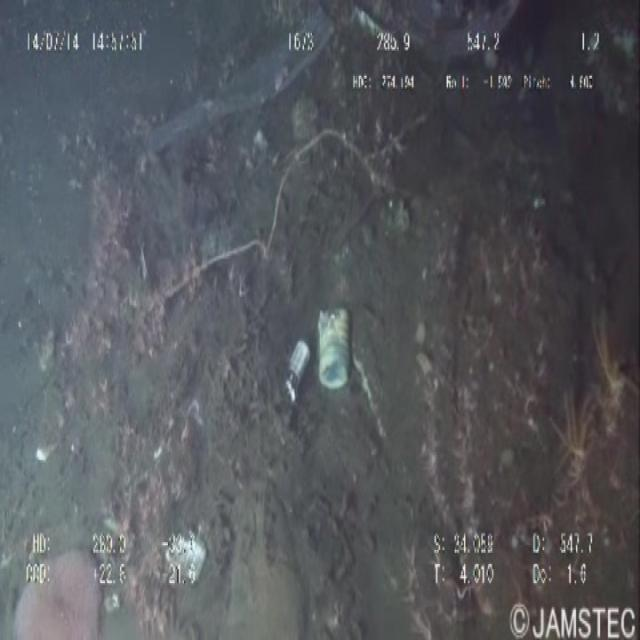Glass: (271, 316, 316, 413)
Litter: (142, 0, 326, 155), (360, 0, 528, 73)
Natual-Debris: (114, 132, 404, 326)
Plastic: (313, 292, 367, 406)
